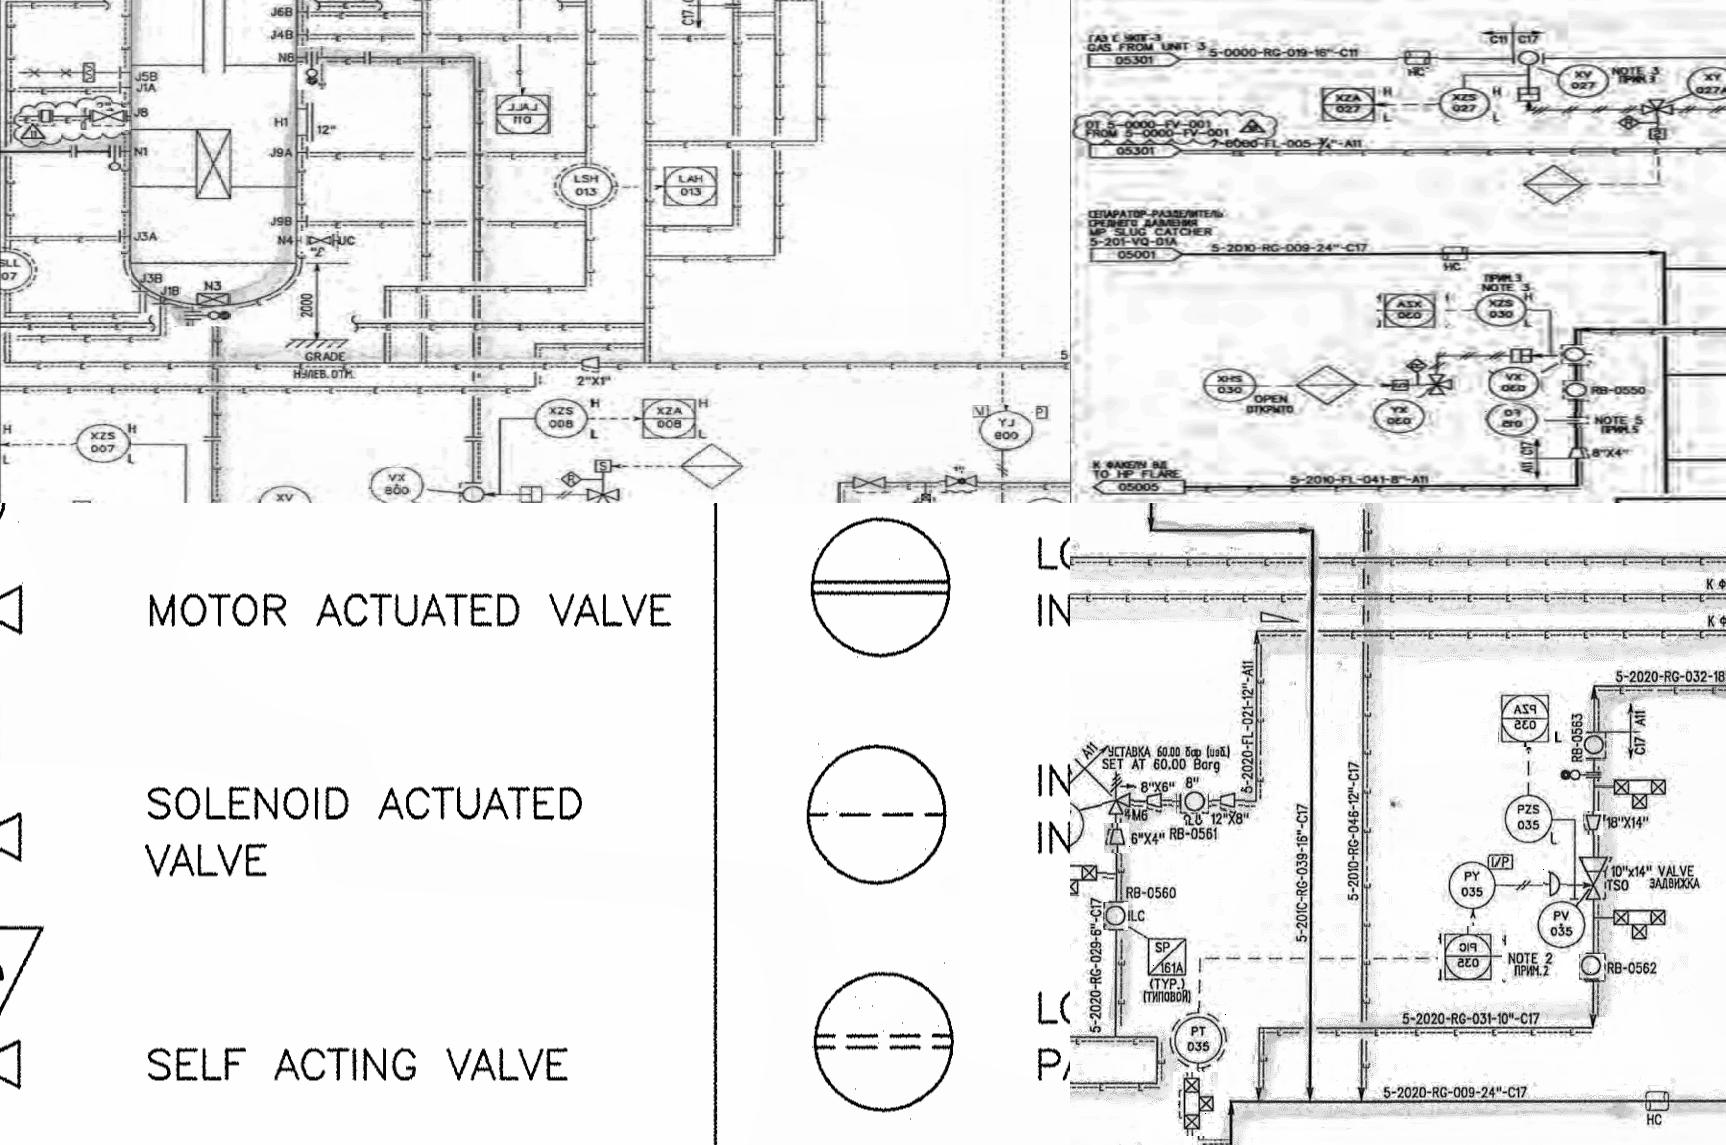2 WAY VALVE: (1173, 1072, 1218, 1136), (1612, 905, 1676, 946), (1611, 773, 1671, 814), (1071, 860, 1108, 896)
ANGLE RELIEF VALVE: (1103, 771, 1134, 826)
BLIND SPADE OPEN: (100, 142, 129, 178)
CONCENTRIC REDUCER: (1105, 824, 1131, 855), (1212, 790, 1246, 811), (576, 354, 613, 373), (1146, 791, 1172, 815), (1584, 811, 1605, 834)
DCS ACCESSIBLE: (1439, 926, 1504, 987), (1499, 684, 1556, 748), (638, 391, 704, 445), (487, 87, 554, 138), (659, 164, 723, 212)
DIAPHRAGM SEAL: (75, 59, 100, 86)
DUPLEX RECEPTACLE: (1643, 1085, 1674, 1117)
END CAP: (1545, 869, 1568, 898), (1545, 874, 1569, 901)
FIELD INSTRUMENT: (1169, 1008, 1232, 1071), (552, 160, 620, 215), (1497, 790, 1552, 847), (972, 406, 1036, 451), (73, 419, 132, 466), (1537, 902, 1591, 951), (530, 399, 593, 440), (1449, 857, 1499, 909), (368, 466, 428, 503), (1177, 791, 1209, 820), (1071, 797, 1088, 849), (1104, 902, 1129, 930), (1580, 955, 1606, 981), (1582, 736, 1608, 762)
GATE VALVE: (846, 469, 898, 492), (80, 109, 129, 130), (302, 231, 340, 252)
GLOBE VALVE: (940, 472, 979, 493)
HARDWIRED INTERLOCK FIELD: (557, 466, 589, 491)
HARDWIRED INTERLOCK PRIMARY.: (673, 443, 751, 491)
INSIDE PANEL INSTRUMENT: (805, 740, 959, 895)
IP CONVERTER: (1011, 399, 1057, 423)
LOCAL INSIDE PANEL INSTRUMENT: (809, 958, 961, 1119)
LOCALPANEL INSTRUMENT: (801, 507, 968, 667)
MOTOR ACTUATED VALVE: (0, 503, 29, 644)
REVISION TRIANGLE: (18, 121, 46, 144)
SELF ACTING VALVE: (0, 918, 49, 1093)
SOLENOID ACTUATED VALVE: (0, 690, 23, 870)
SPECIAL PIPING ITEM: (1143, 933, 1193, 987)
SPECTACLE BLIND OPEN: (170, 307, 236, 327), (296, 46, 327, 89), (1555, 769, 1614, 787)
SPEED FLOW METER: (590, 456, 620, 478)
